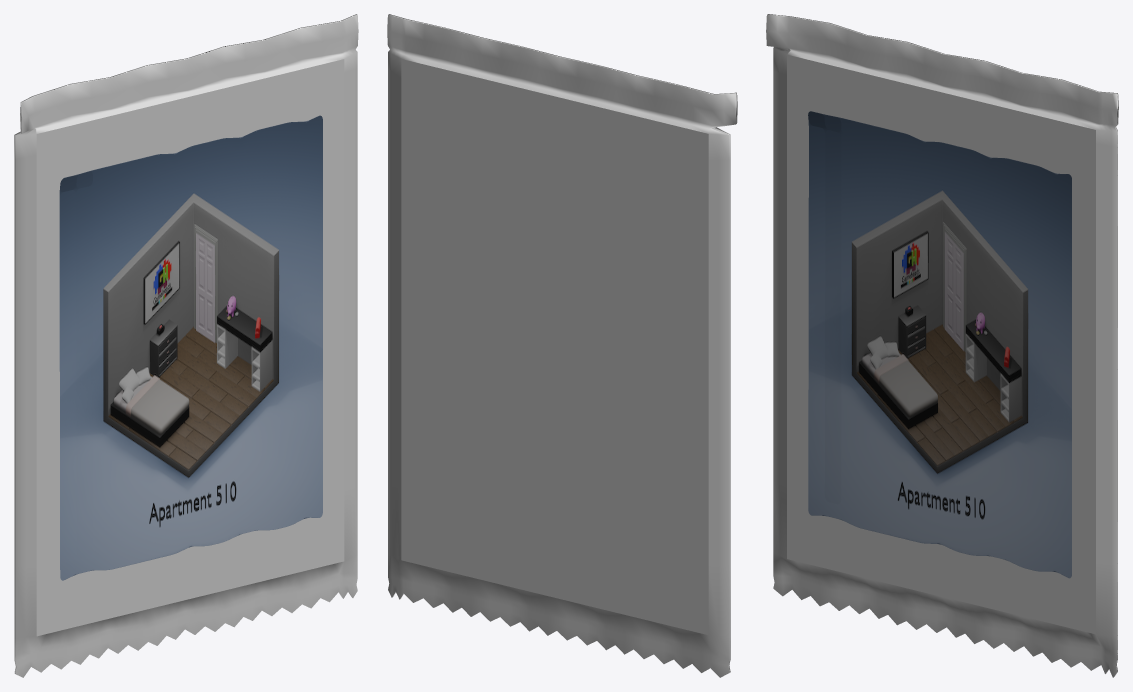
The model's file is BoosterPack.glb.
3 renders of one model, left to right at view 1: azimuth 30°, elevation 25°; view 2: azimuth 150°, elevation 25°; view 3: azimuth 330°, elevation 25°, orthographic.
Visible parts, largest first — view 1: Cover, Body, Top; view 2: Body, Top; view 3: Cover, Body, Top.
Part boxes in pixels (x1,y1,x2,y2): Cover: (59, 115, 322, 580); Body: (14, 68, 357, 677); Top: (14, 14, 358, 159); Body: (388, 69, 730, 677); Top: (387, 14, 737, 160); Cover: (808, 111, 1071, 578); Body: (773, 72, 1117, 677); Top: (766, 14, 1118, 147).
Size of what is drawn, in the model's own units: 4.07 by 6.62 by 0.2481.
Materials: 4 (3 with a texture image).
